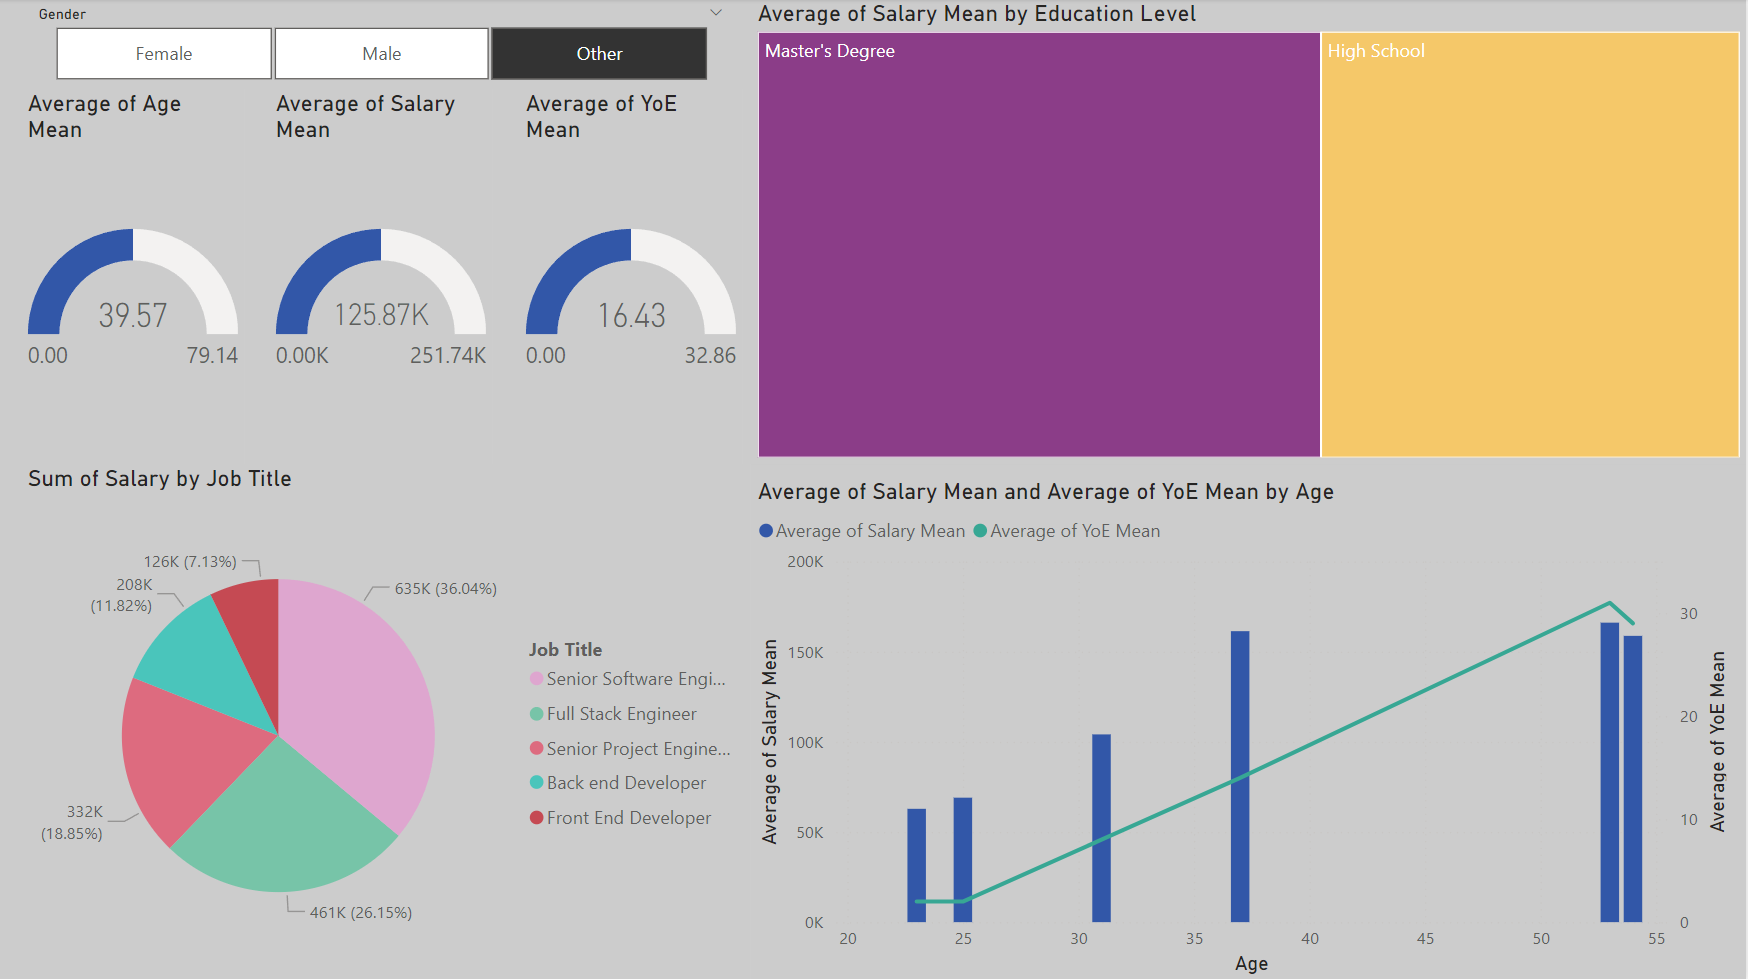

This screenshot's page, from the dashboard's own definition file:
{"tool":"powerbi","page":{"name":"Page 1","canvas":[1280,720],"ordinal":0},"visuals":[{"type":"lineClusteredColumnComboChart","fields":{"Category":["Salary Data.Age"],"Y2":["Avg(Statistics.YoE Mean)"],"Y":["Avg(Statistics.Salary Mean)"]},"box":[550.5,350.5,720.2,369.7],"z":0},{"type":"slicer","fields":{"Values":["Salary Data.Gender"]},"box":[15.1,0,527.2,65.7],"z":1000},{"type":"treemap","fields":{"Group":["Salary Data.Education Level"],"Values":["Avg(Statistics.Salary Mean)"]},"box":[550.4,0,729.9,341.3],"z":2000},{"type":"pieChart","fields":{"Category":["Salary Data.Job Title"],"Y":["Sum(Salary Data.Salary)"]},"box":[15.1,341,535.4,379.3],"z":3000},{"type":"gauge","fields":{"Y":["Avg(Statistics.Age Mean)"]},"box":[15.1,65.7,164.3,275.2],"z":3001},{"type":"gauge","fields":{"Y":["Avg(Statistics.Salary Mean)"]},"box":[197.2,65.7,164.3,275.2],"z":3002},{"type":"gauge","fields":{"Y":["Avg(Statistics.YoE Mean)"]},"box":[380.7,65.7,164.3,275.2],"z":3003}]}

Visuals, with their boxes in screenshot pixels (x1, y1, x2, y2), scaled from the page's 1280x720 canvas onto the 1748x979 screenshot:
lineClusteredColumnComboChart - Salary Data.Age x Avg(Statistics.YoE Mean): 752, 477, 1735, 978
slicer - Salary Data.Gender: 21, 0, 741, 89
treemap - Salary Data.Education Level x Avg(Statistics.Salary Mean): 752, 0, 1747, 464
pieChart - Salary Data.Job Title x Sum(Salary Data.Salary): 21, 464, 752, 978
gauge - Avg(Statistics.Age Mean): 21, 89, 245, 464
gauge - Avg(Statistics.Salary Mean): 269, 89, 494, 464
gauge - Avg(Statistics.YoE Mean): 520, 89, 744, 464
